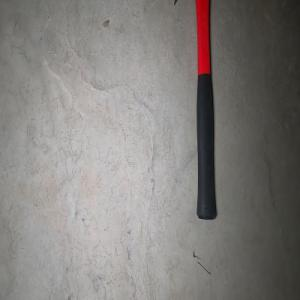Hammer: (173, 0, 231, 221)
